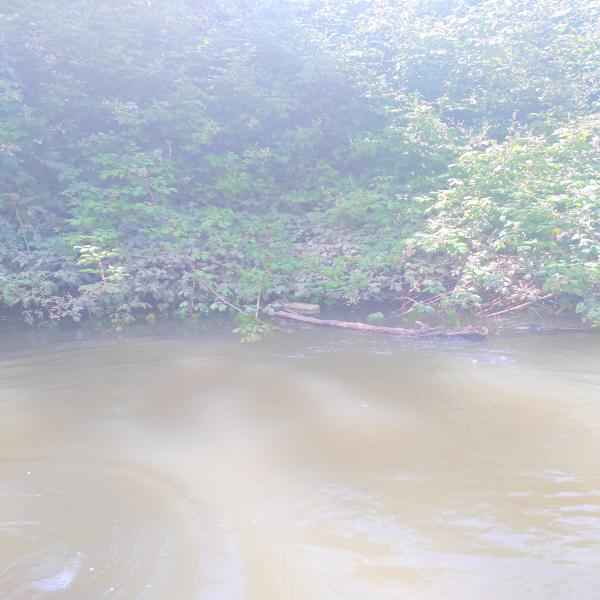others: (279, 299, 325, 308)
